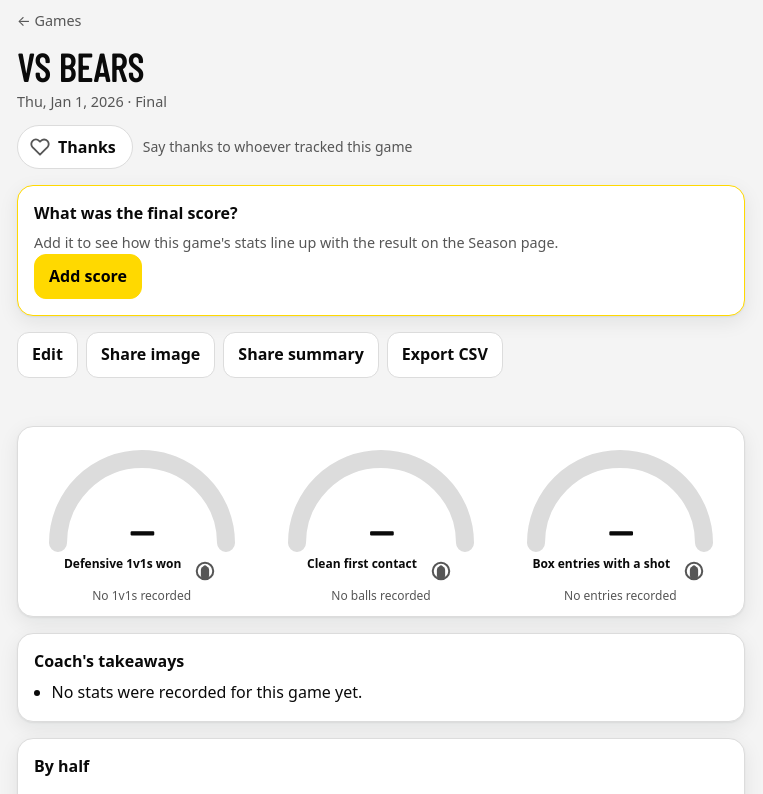
Test: GameSummaryPage › copies summary when Web Share is unavailable
Click the button "Share summary": click(301, 355) [223,332,379,378]
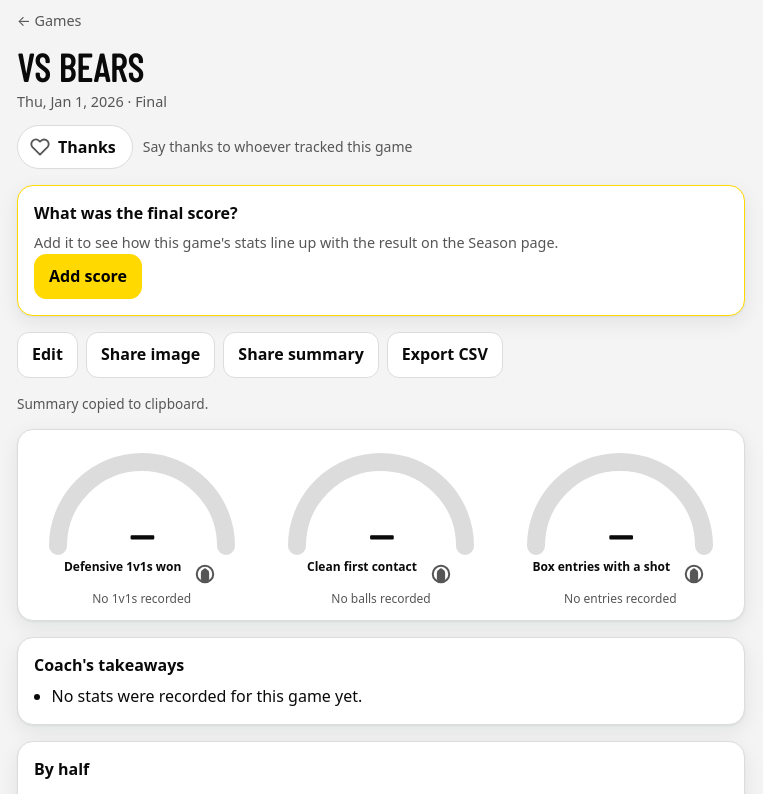
Now the text "Summary copied to clipboard." is shown, box [17,394,208,413]
